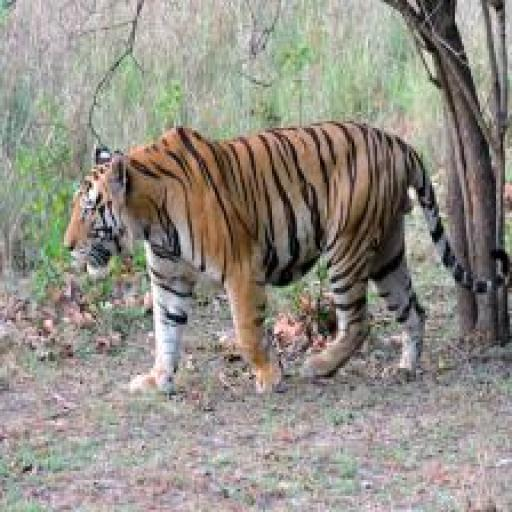Tiger: (41, 101, 512, 400)
